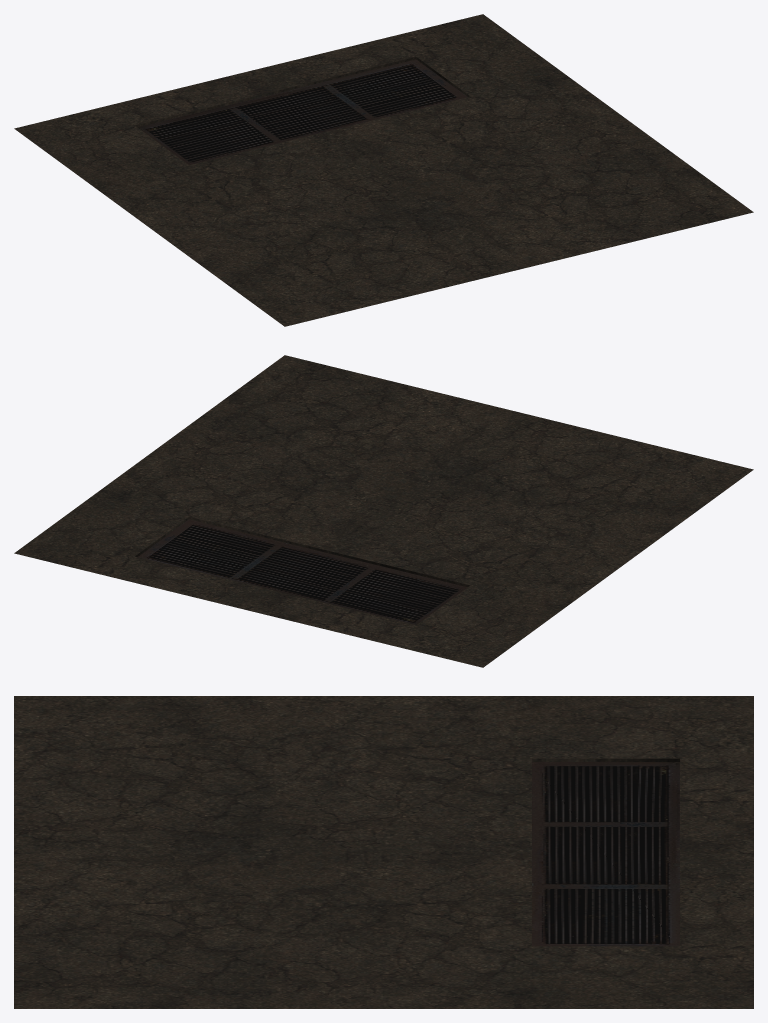
File: asphalt_hr_2.fbx
The picture shows the model from 3 angles, top to bottom: view 1: azimuth 30°, elevation 25°; view 2: azimuth 150°, elevation 25°; view 3: azimuth 270°, elevation 25°; orthographic projection. The views are drawn at different scales.
Visible parts, largest first — view 1: asphalt_hr_2; view 2: asphalt_hr_2; view 3: asphalt_hr_2.
Part boxes in pixels (x1,y1,x2,y2): asphalt_hr_2: (14, 14, 753, 326); asphalt_hr_2: (14, 355, 753, 667); asphalt_hr_2: (14, 696, 753, 1008).
Size of the model in its own units: 4 by 4 by 0.02.
